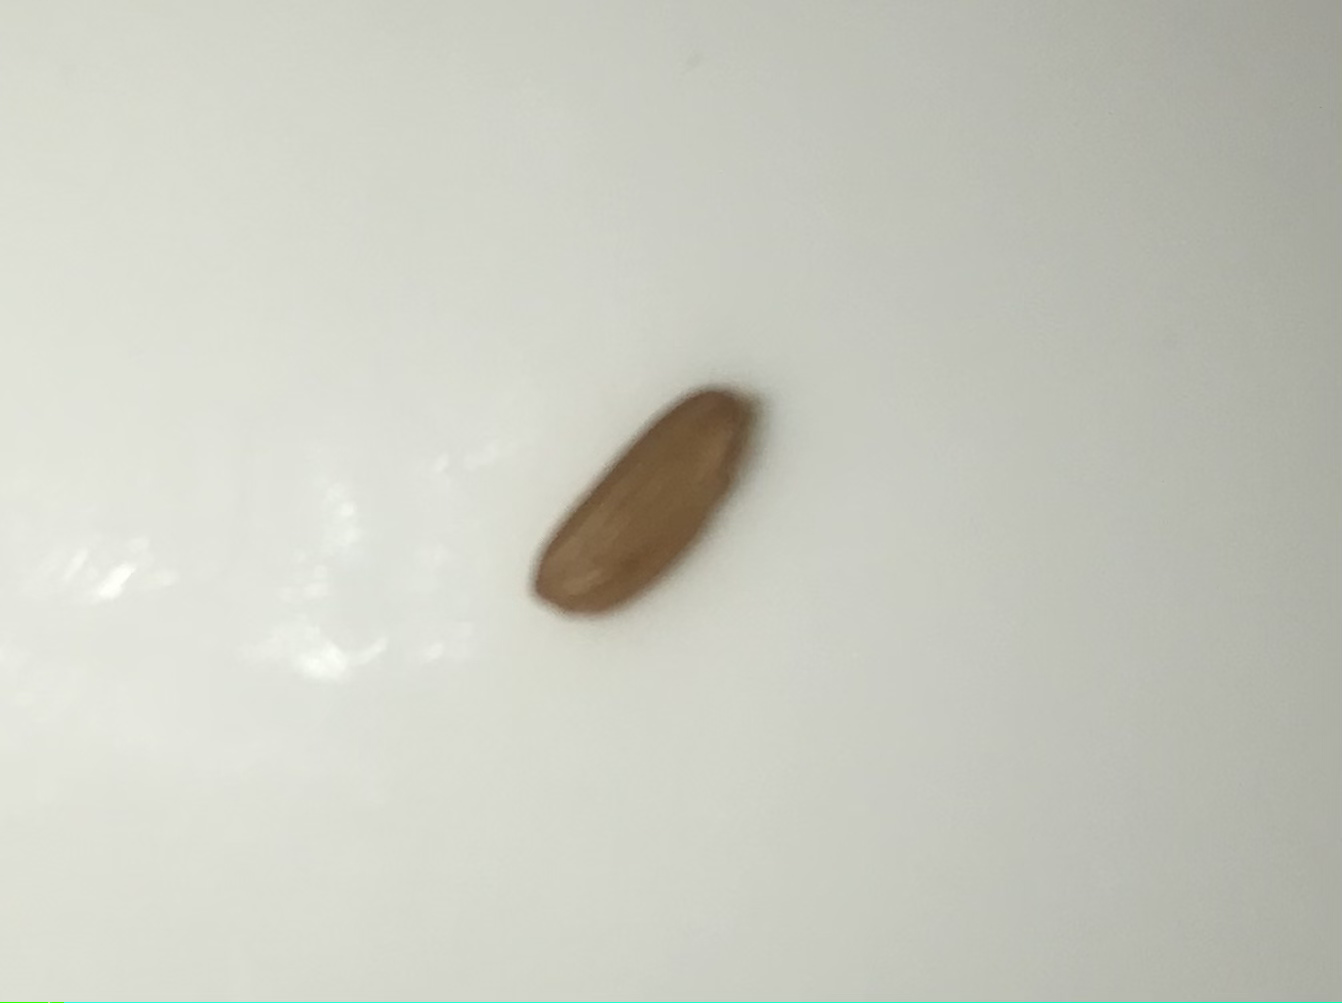Gao Lut Dien Bien: (520, 382, 767, 631)
